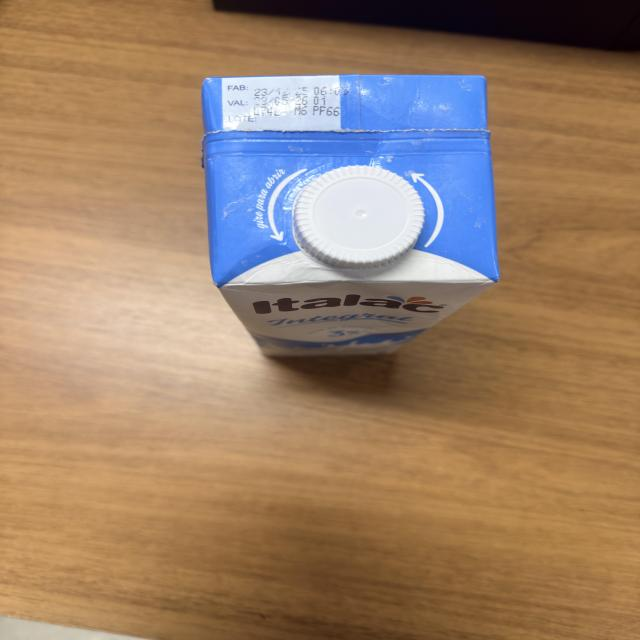Caixa de Leite: (197, 75, 501, 358)
